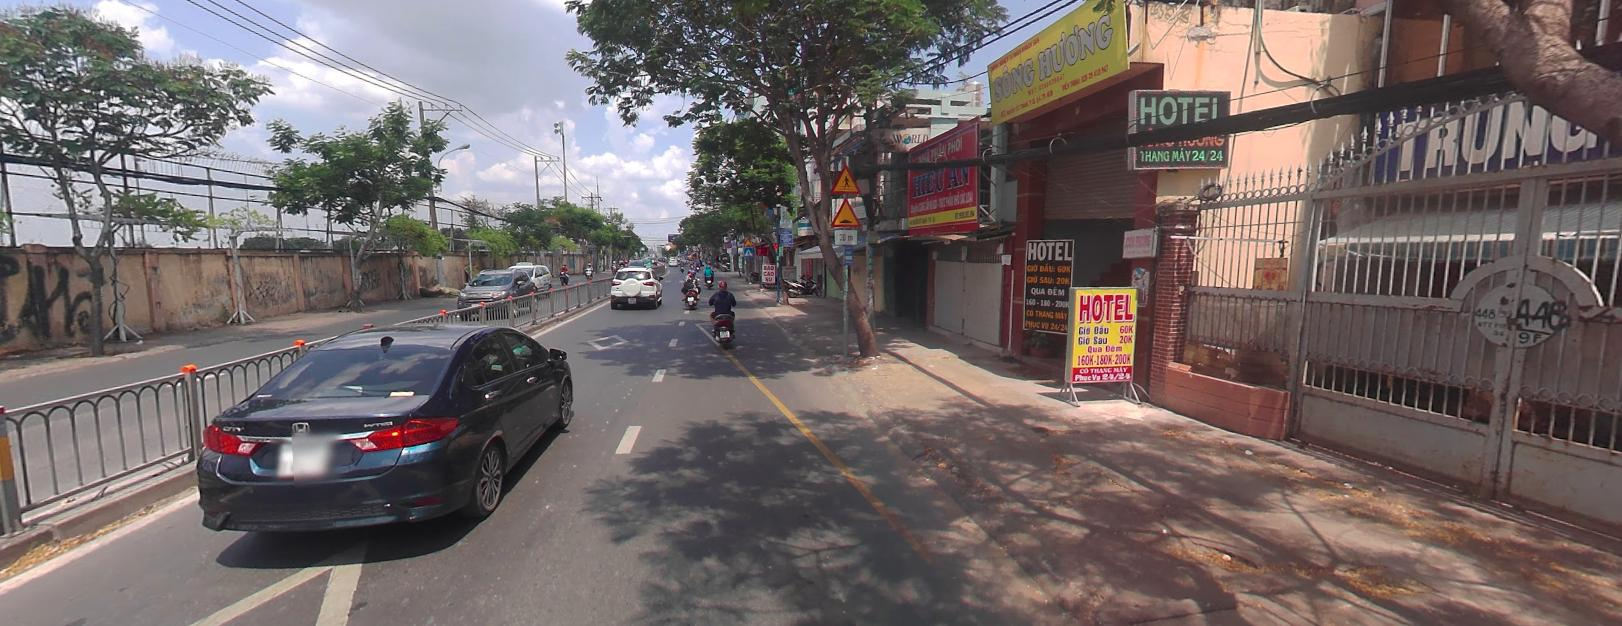Cam dung va do: (726, 241, 731, 246)
Nguy hiem: (829, 163, 862, 193), (830, 196, 861, 225), (744, 236, 752, 244)
